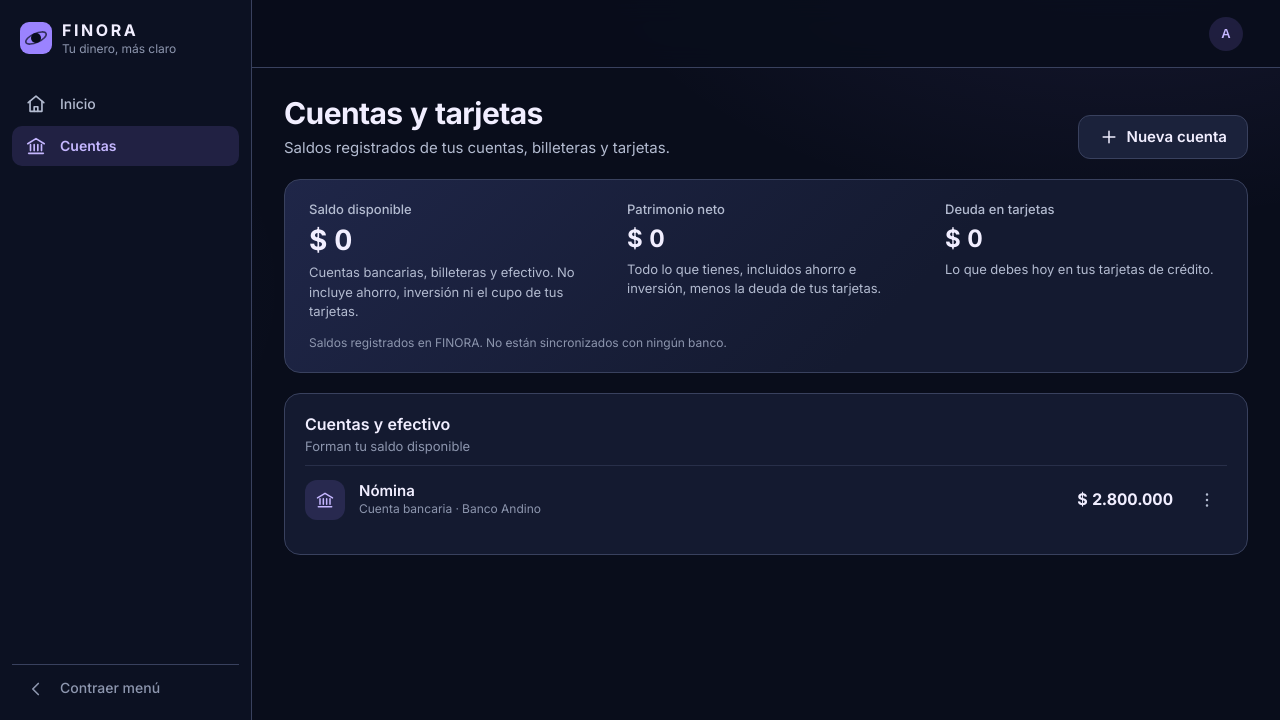
editar cuenta (RF-ACC-05 y 06) › muestra los datos actuales, el tipo fijo y envía los cambios sin el tipo
The image size is (1280, 720).
Click the button named "Acciones de Nómina" at (1207, 500), box 1187,480 -> 1227,520
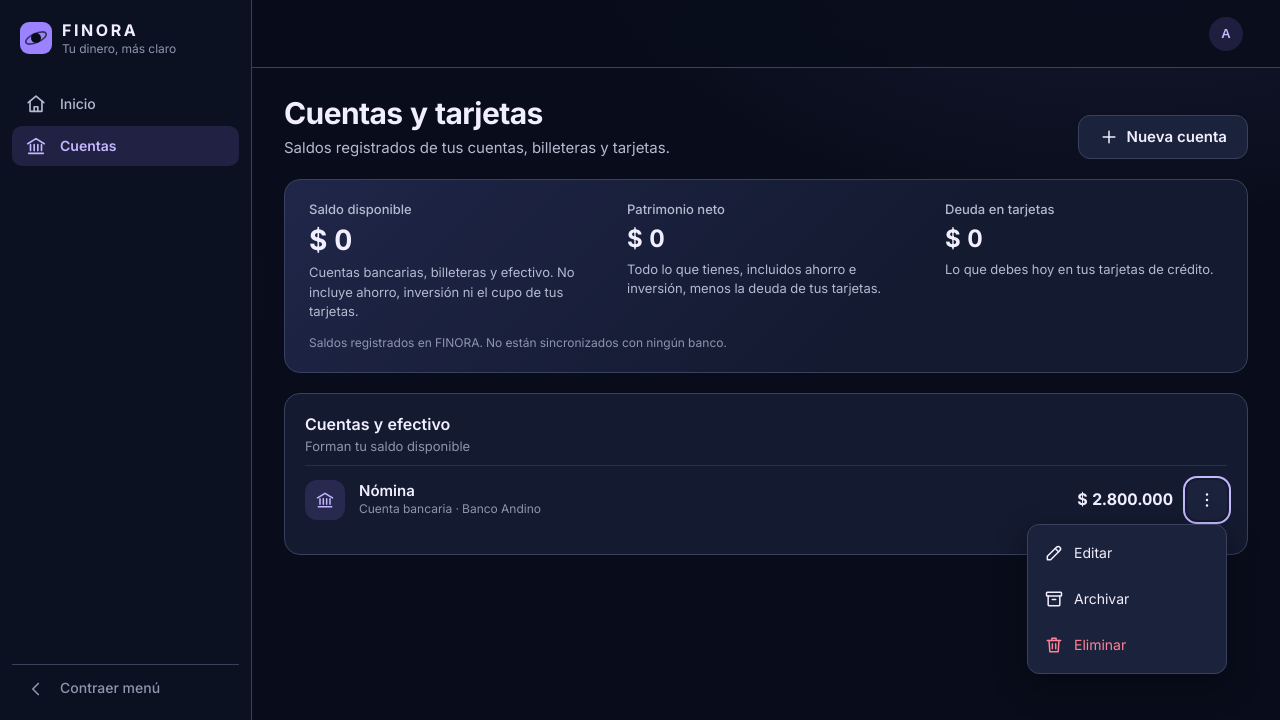
Click the button "Editar" at (1127, 553), box 1034,531 -> 1220,575
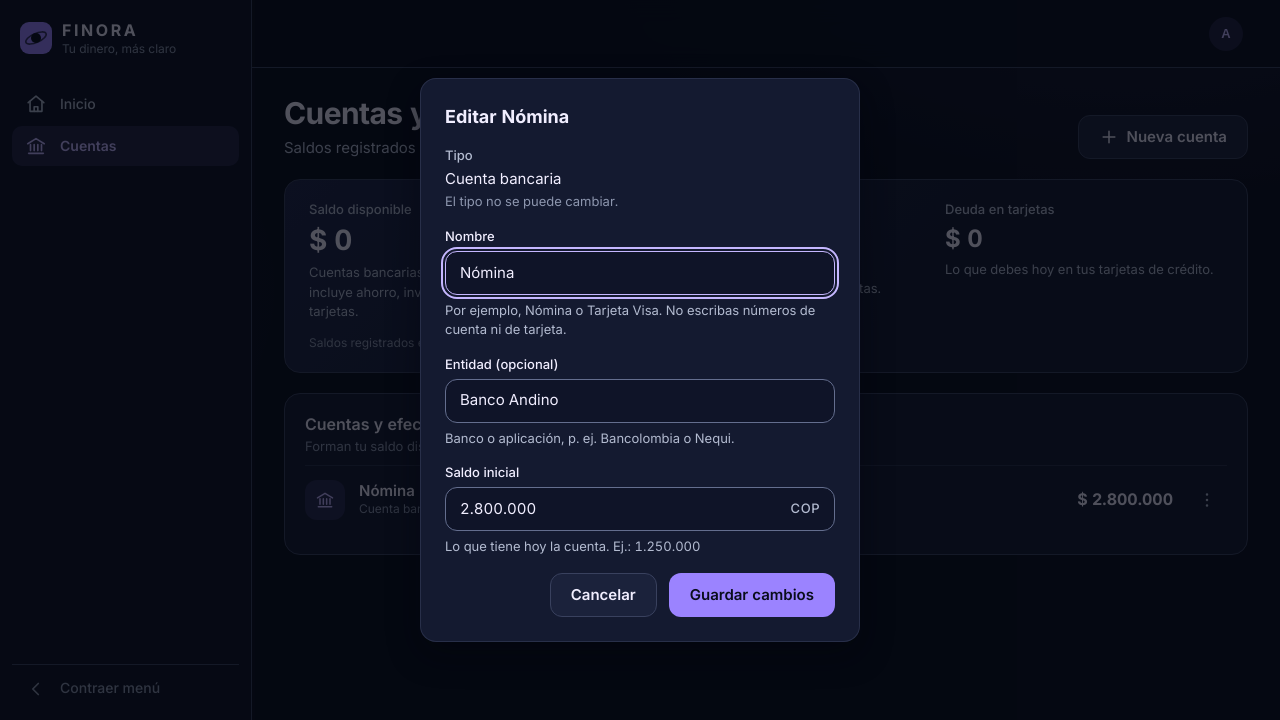
Now the dialog "Editar Nómina" shows "Cuenta bancaria", box 445,169 -> 562,188
Now the dialog "Editar Nómina" shows "El tipo no se puede cambiar.", box 445,193 -> 618,209
Now the field labelled "Saldo inicial" holds "2.800.000", box 446,488 -> 781,530
Replace the text in the field labelled "Nombre" with "Nómina principal" at (640, 273), box 446,252 -> 834,294
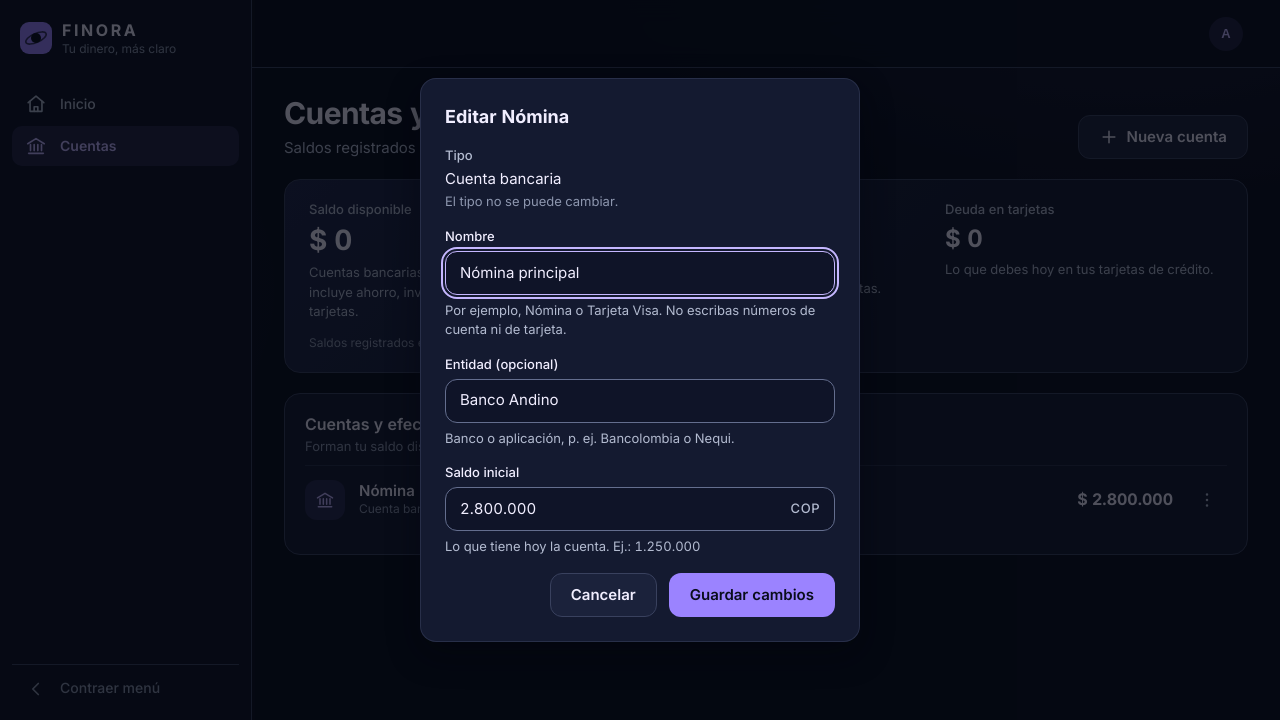
Clear the field labelled "Entidad (opcional)" at (640, 401), box 446,380 -> 834,422
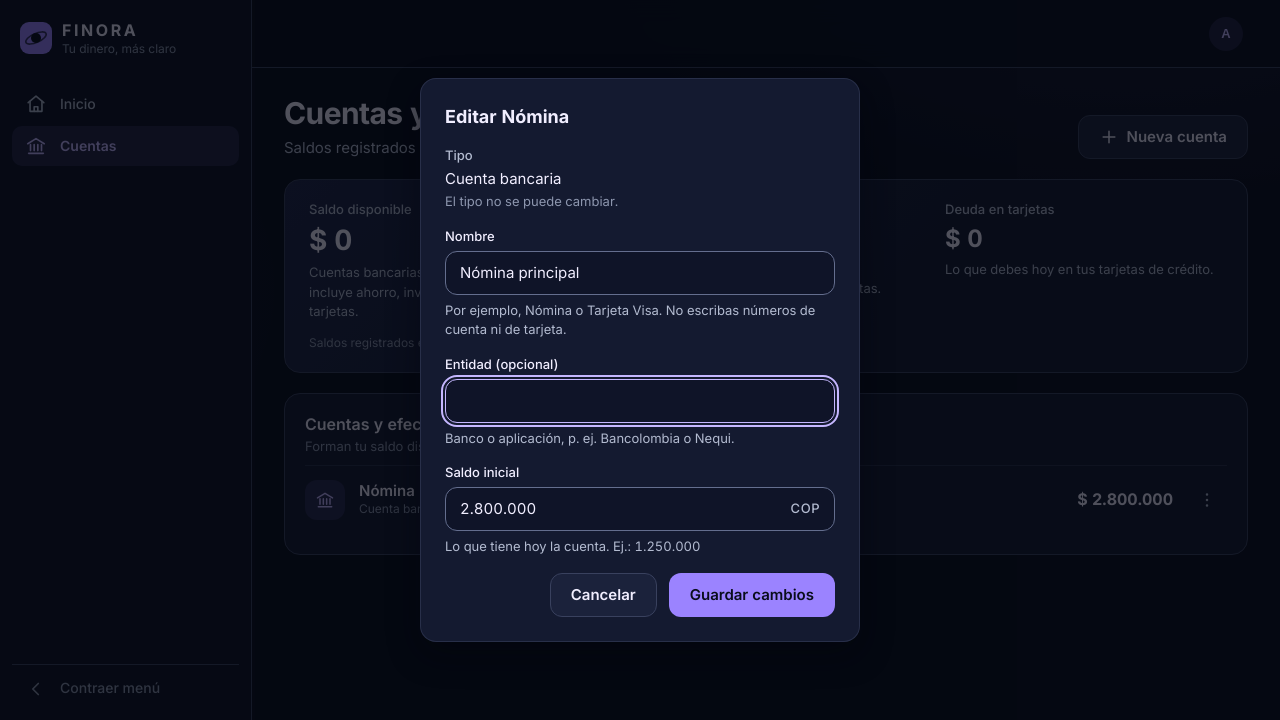
Click the button "Guardar cambios" at (752, 595), box 669,573 -> 835,617
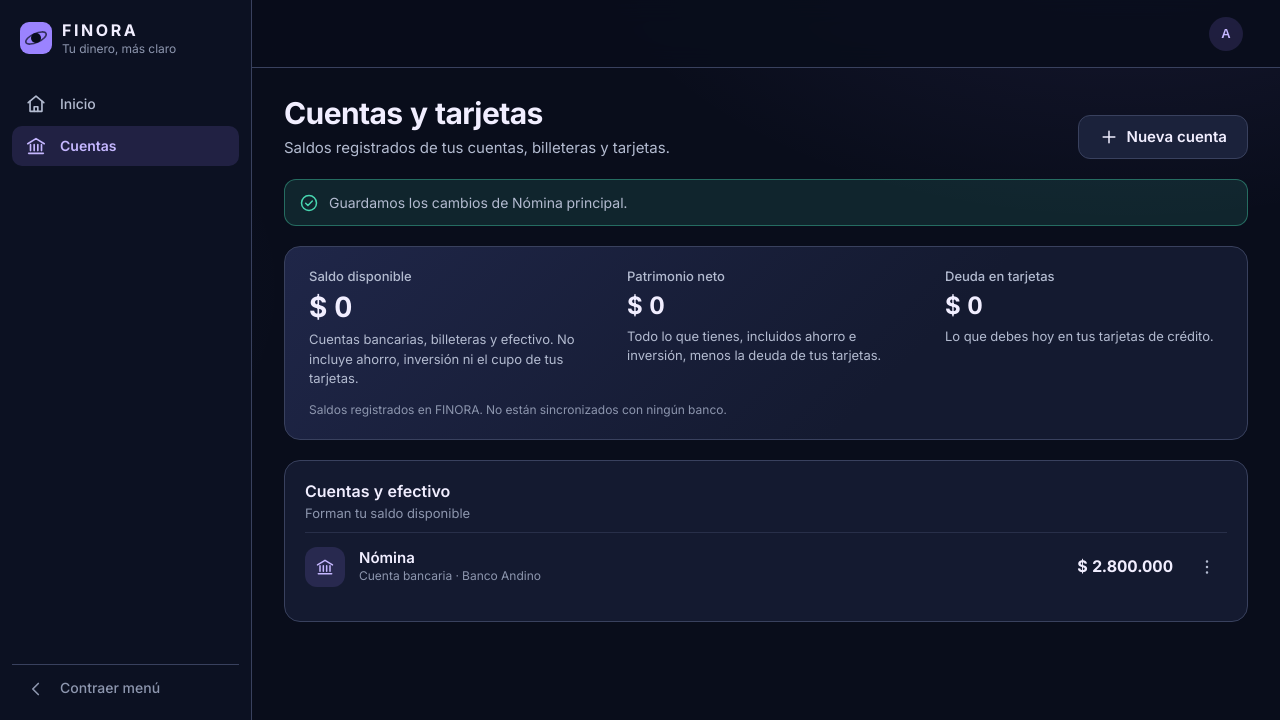
Now the text "Guardamos los cambios de Nómina principal." is shown, box 329,192 -> 627,213
